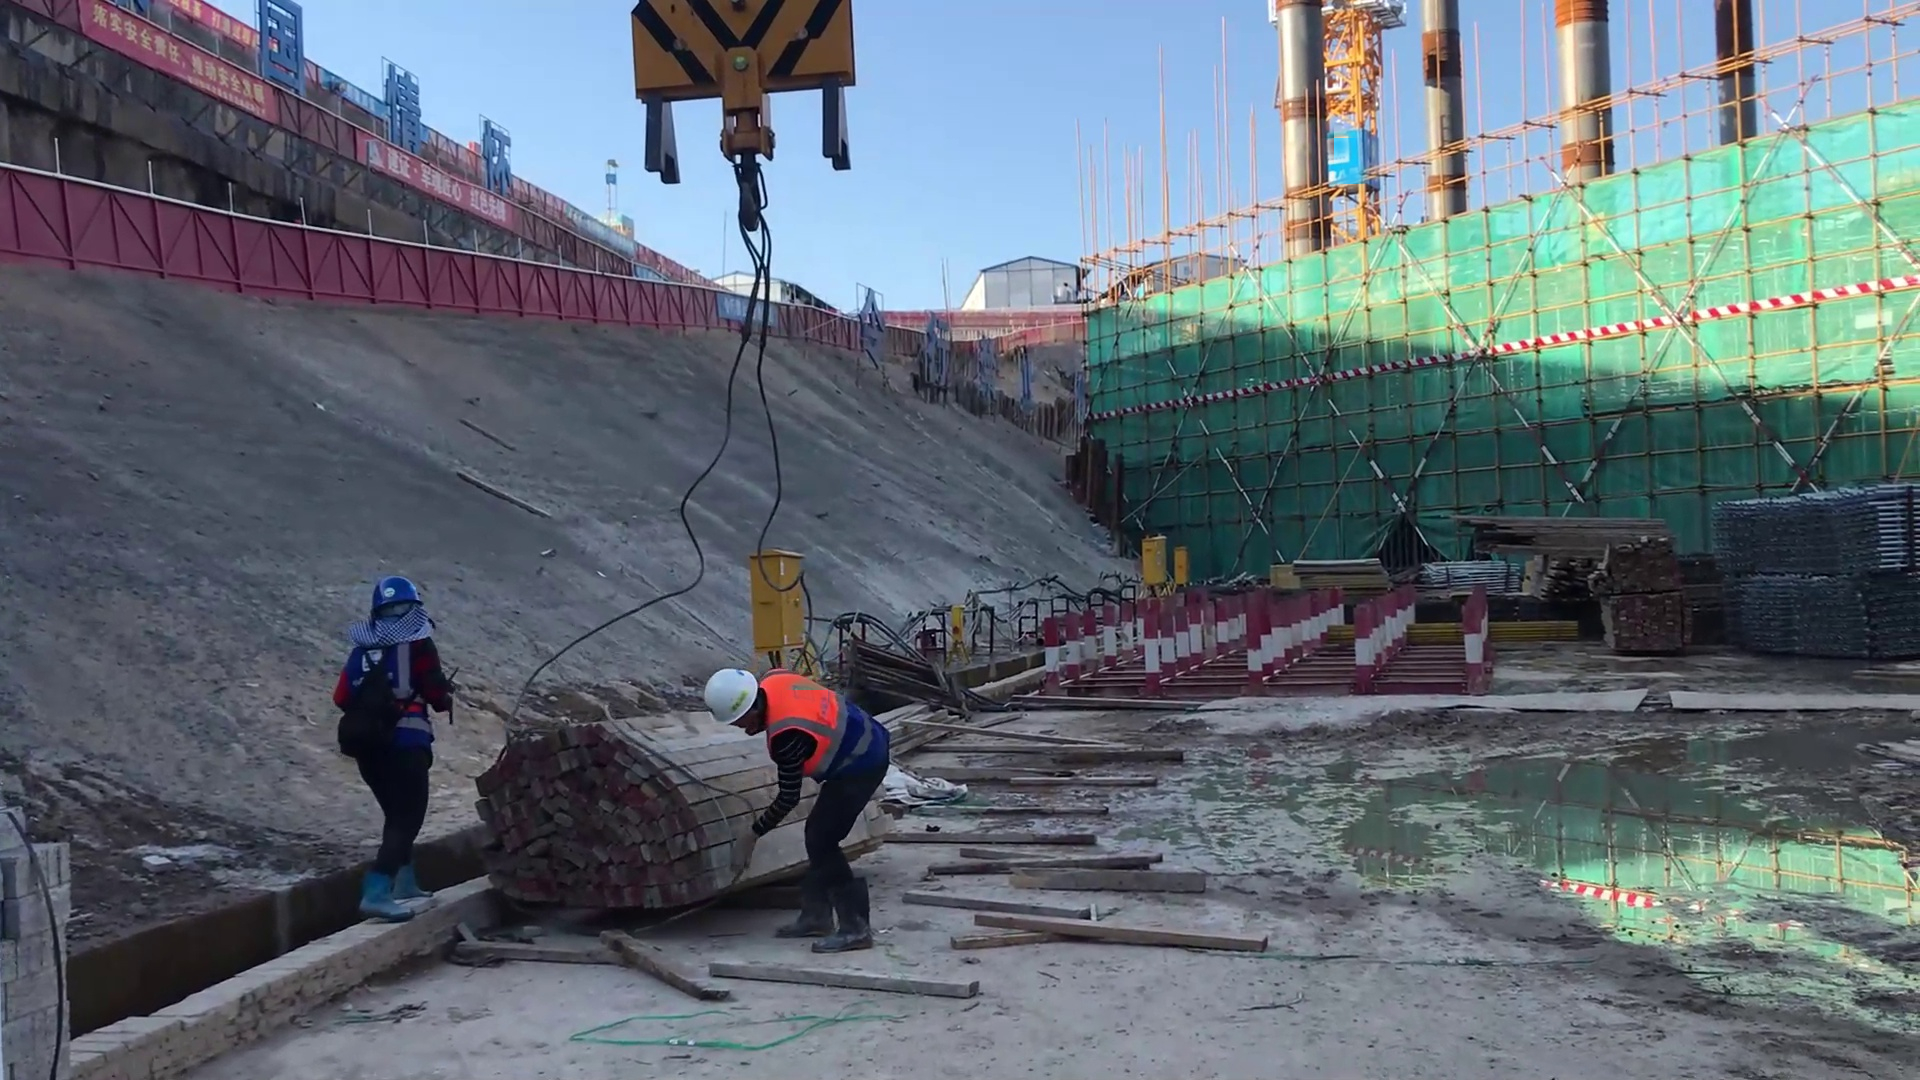ebox: (718, 522, 804, 649), (1135, 527, 1170, 585), (1171, 542, 1197, 587)
fence: (1, 170, 369, 332), (361, 244, 712, 335)
helmet: (689, 655, 771, 753), (358, 573, 433, 641)
hook: (628, 1, 870, 192)
person: (697, 650, 902, 962), (330, 563, 445, 914)
scaffold: (1717, 489, 1920, 668)
slogan: (80, 1, 296, 145)
vest: (768, 671, 875, 759)
wood: (921, 627, 1282, 982), (449, 711, 704, 941), (1447, 494, 1684, 571)
